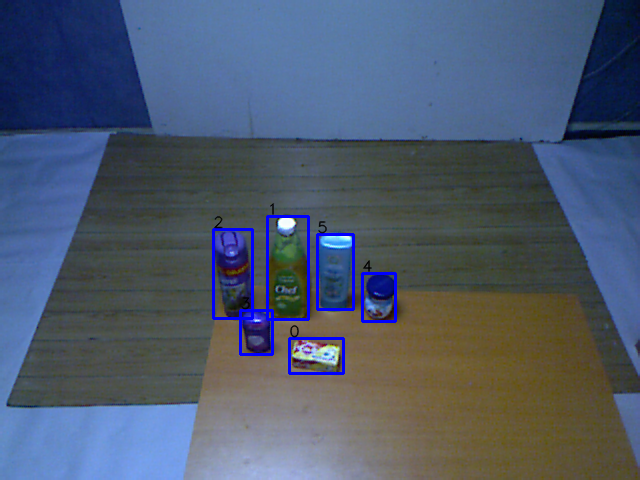aceite: (260, 211, 316, 324)
aerosol: (209, 227, 258, 324)
balsamo: (311, 229, 355, 314)
crema: (360, 271, 400, 323)
desodorante: (237, 307, 273, 359)
mantequilla: (284, 335, 346, 376)
